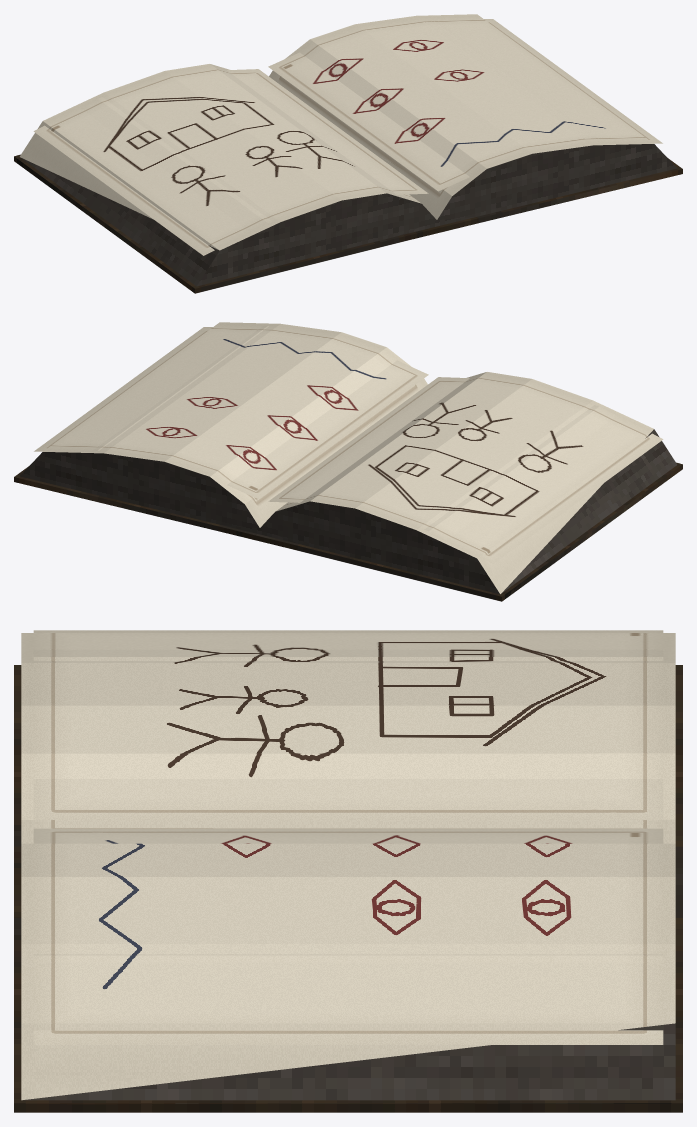
The model's file is blender_ghost_writing_book_3_open_child_drawings.glb.
3 views of the same model, one above another, from view 1: azimuth 30°, elevation 25°; view 2: azimuth 150°, elevation 25°; view 3: azimuth 270°, elevation 25° (orthographic). The views are drawn at different scales.
Visible parts, largest first — view 1: blender_ghost_writing_book_3_open_child_drawings; view 2: blender_ghost_writing_book_3_open_child_drawings; view 3: blender_ghost_writing_book_3_open_child_drawings.
Boxes of the visible parts, <box> form: blender_ghost_writing_book_3_open_child_drawings: <box>14,14,682,293</box>; blender_ghost_writing_book_3_open_child_drawings: <box>14,322,682,601</box>; blender_ghost_writing_book_3_open_child_drawings: <box>14,630,682,1112</box>.
Bounding box in the file's own units: 0.42 × 0.0458 × 0.27.
Materials: 2 (2 with a texture image).
